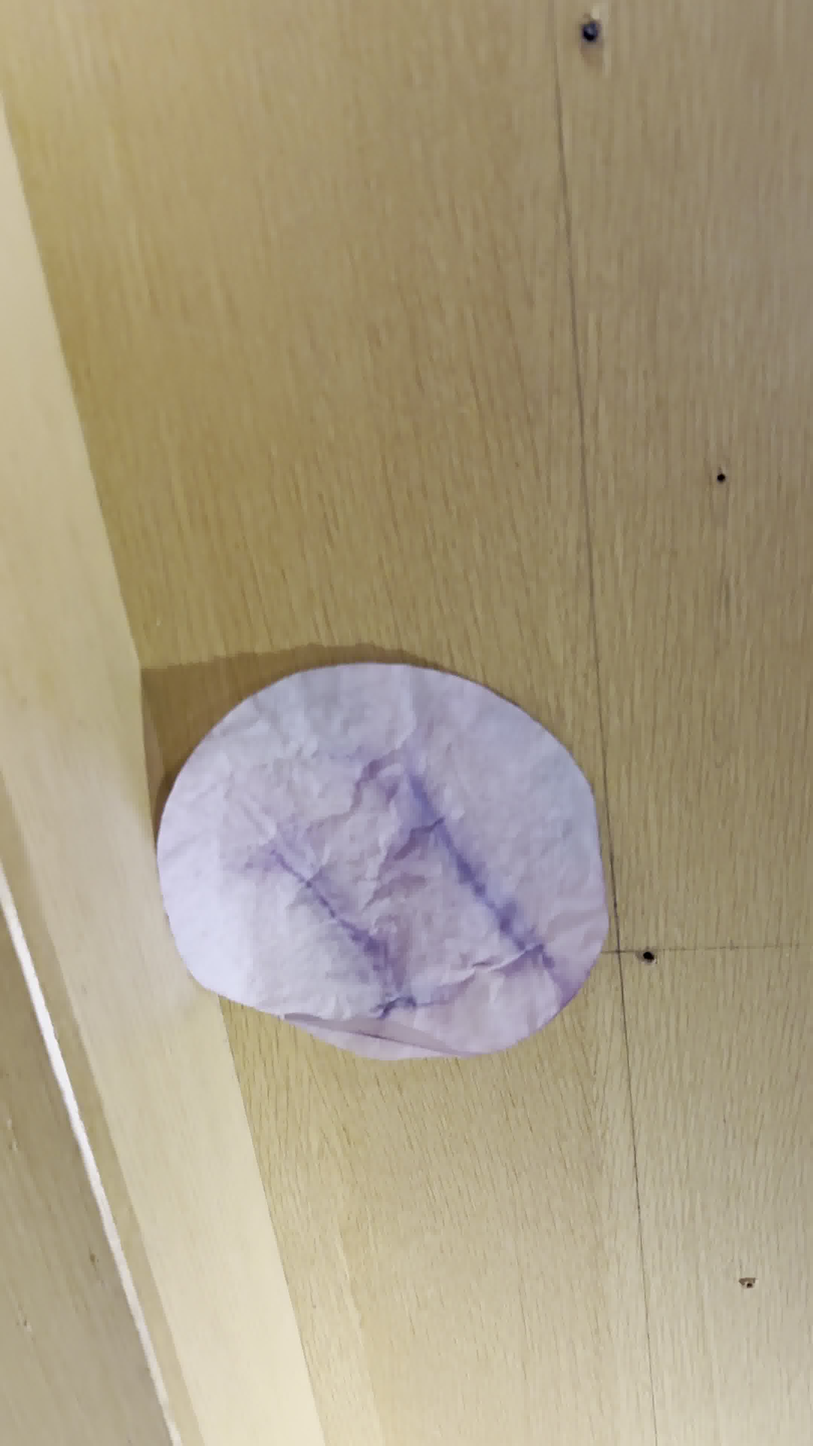Target: (158, 664, 609, 1059)
